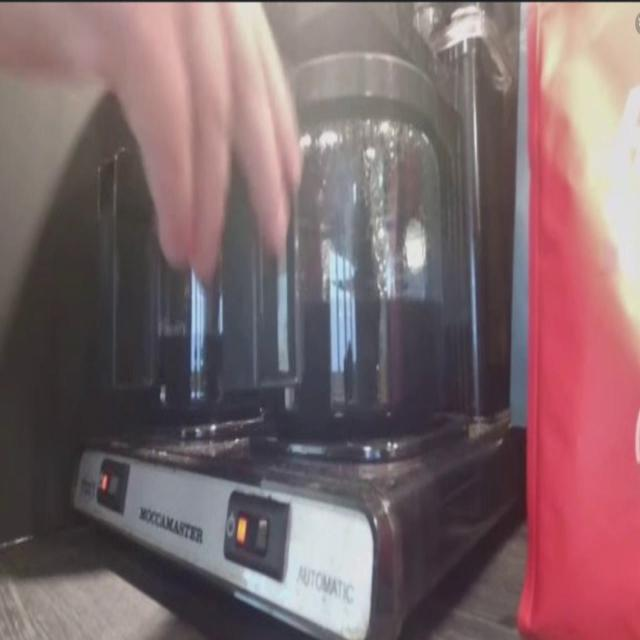coffee: (261, 265, 437, 433), (139, 294, 266, 419)
